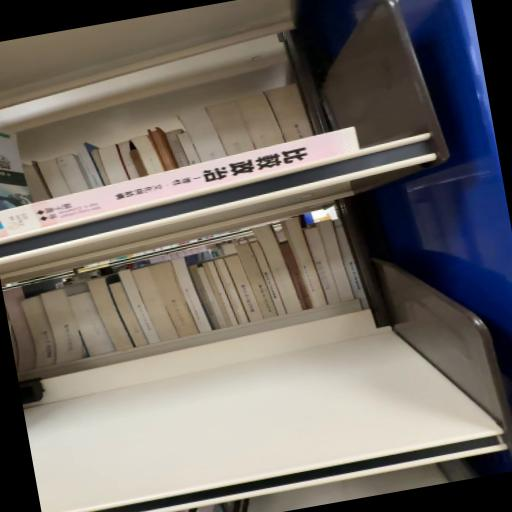flat: (1, 128, 359, 240)
